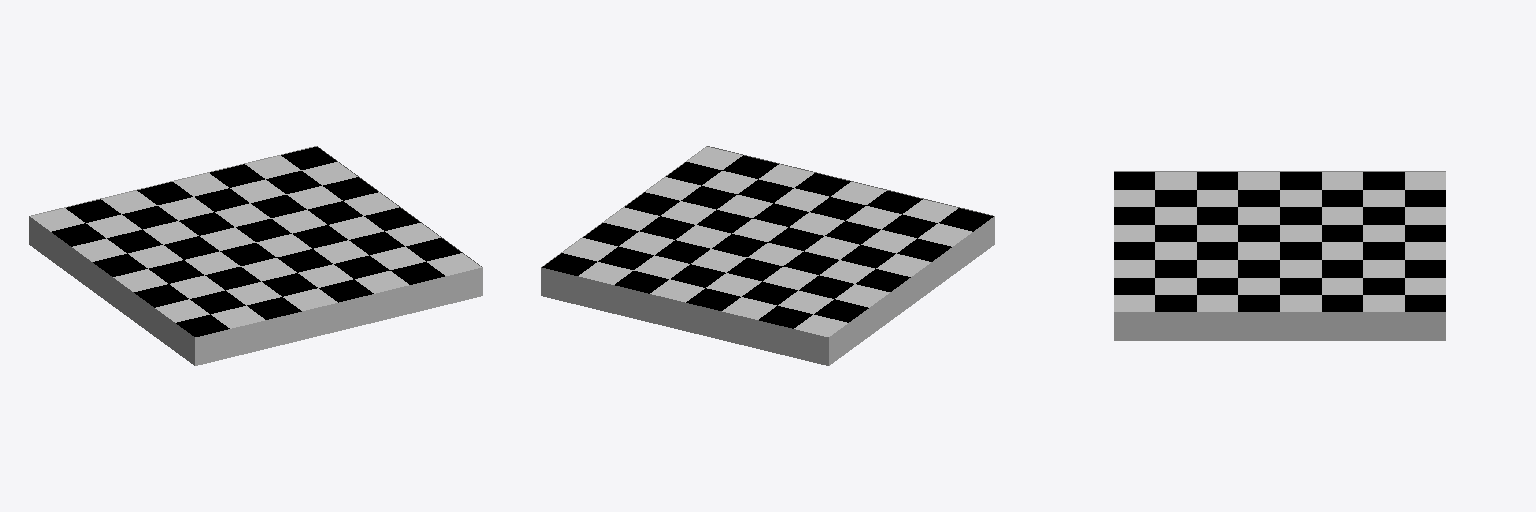
Rendered from ChessBoard.obj.
3 views of the same model, side by side, from view 1: azimuth 30°, elevation 25°; view 2: azimuth 150°, elevation 25°; view 3: azimuth 270°, elevation 25° (orthographic).
Parts seen in each view (by area): view 1: Cube.001, Cube; view 2: Cube.001, Cube; view 3: Cube.001, Cube.
Boxes of the visible parts, x1,y1,x2,y2 form: Cube.001: [30, 147, 481, 336]; Cube: [29, 146, 482, 365]; Cube.001: [542, 147, 993, 336]; Cube: [541, 146, 994, 365]; Cube.001: [1114, 172, 1445, 311]; Cube: [1114, 171, 1445, 340].
Bounding box in the file's own units: 2 × 0.1909 × 2.